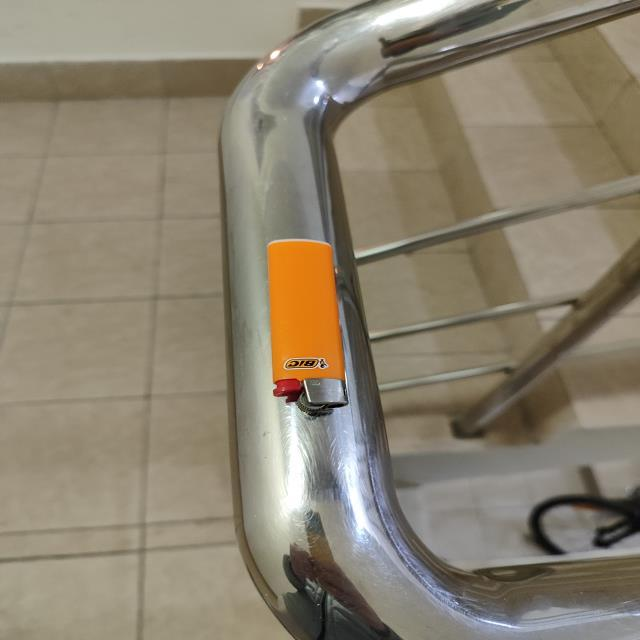lighter: (268, 240, 345, 407)
